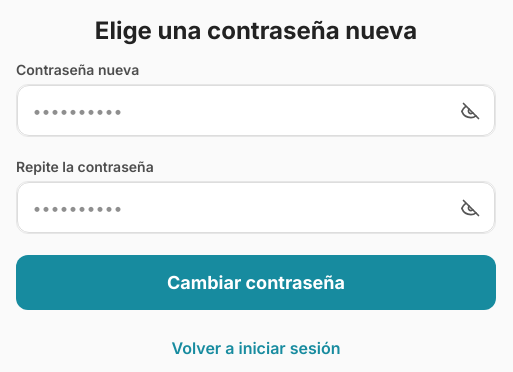
Test: ResetPassword › sends the token and the new password, then offers to log in
Type "password123" into the password field labelled "Contraseña nueva".
click(256, 111); type("password123")  # box [17, 85, 495, 136]
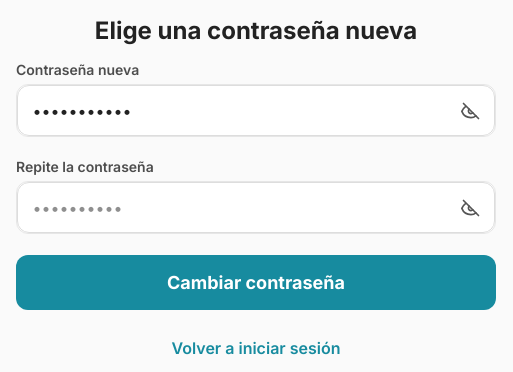
Type "password123" into the password field labelled "Repite la contraseña".
click(256, 208); type("password123")  # box [17, 182, 495, 233]
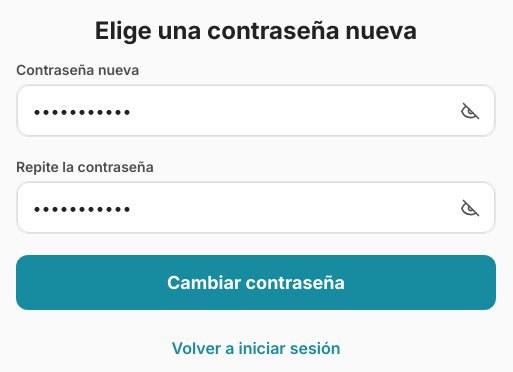
Click the button "Cambiar contraseña".
click(256, 282)  # box [16, 255, 496, 310]
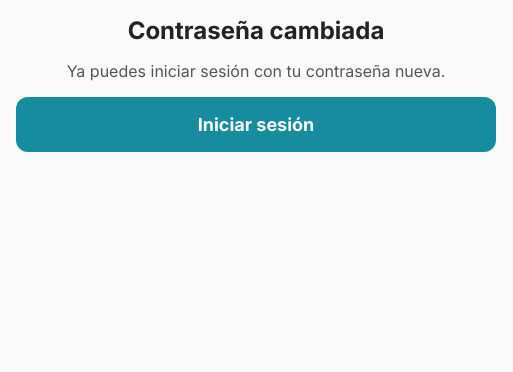
Result: the heading "Contraseña cambiada" is shown at [128, 16, 384, 45]
